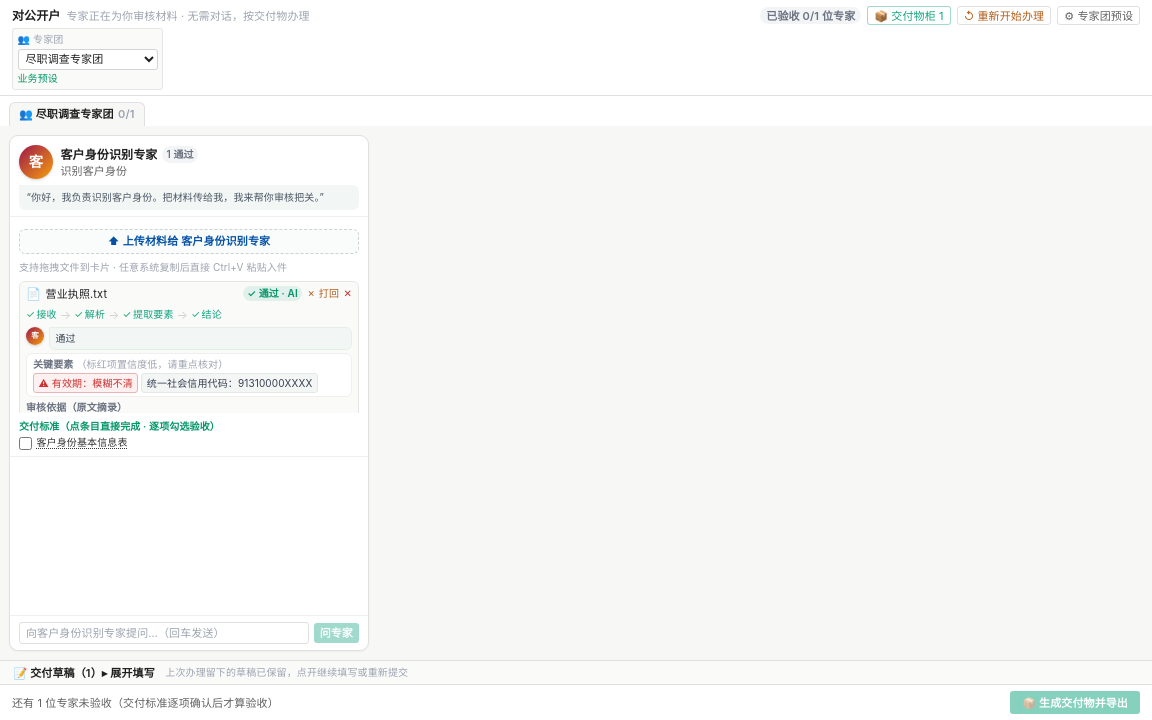
Test case: 草稿区默认收起（BUGFIX #134） › 启动恢复的历史草稿默认收起为提醒栏，表单不自动出现
Expected: the text "提交给专家审核" is not shown
Step 1. Click the button "📝 交付草稿（1）▸ 展开填写" → x=84, y=672, box [9,664,159,681]
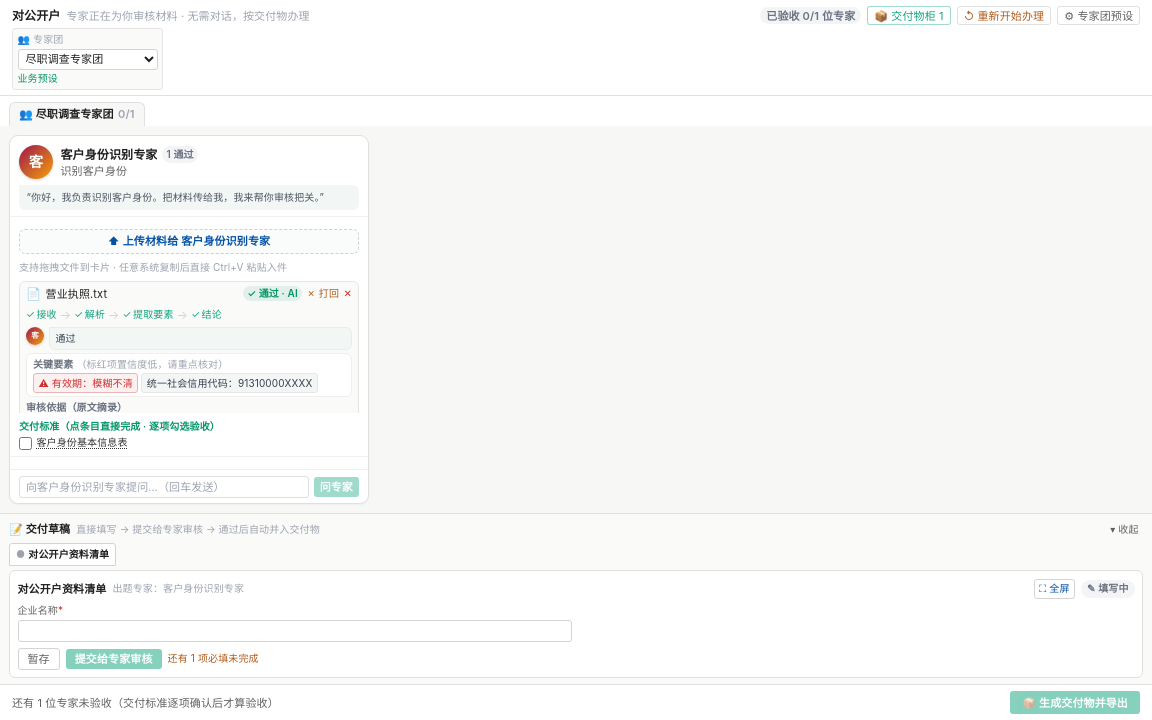
Expected: the button "提交给专家审核" is shown, [66,648,162,668]
Step 2. Click the button "▾ 收起" → x=1124, y=529, box [1106,520,1143,538]
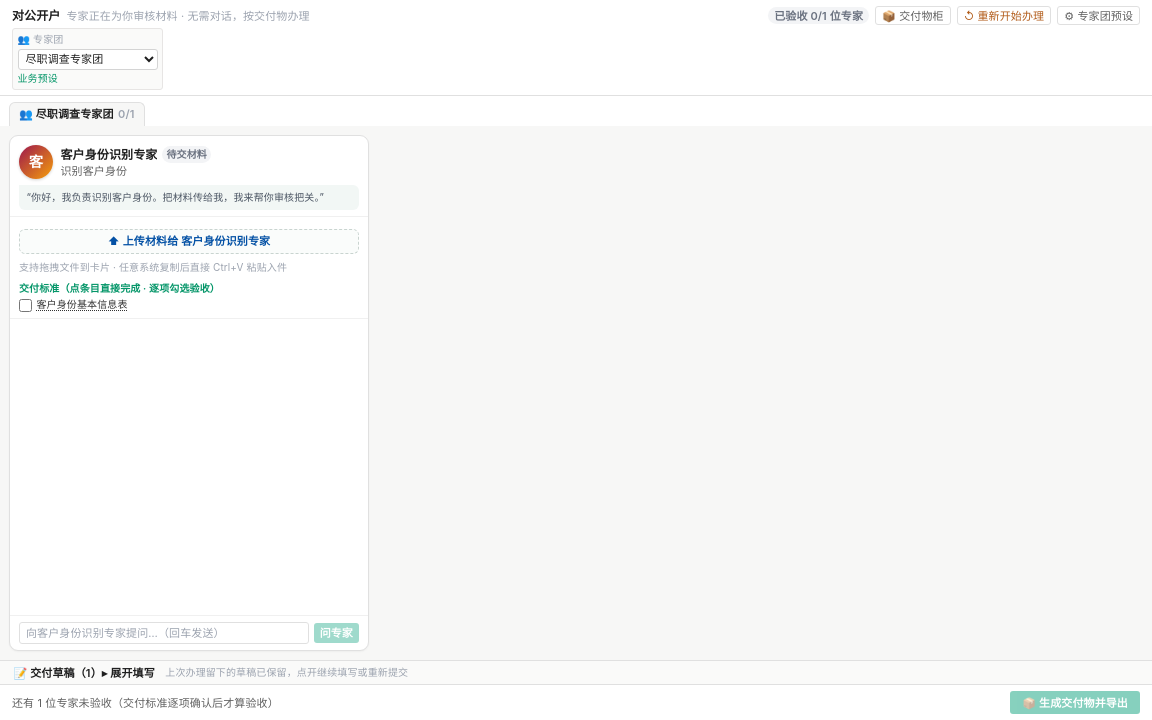
Expected: the text "提交给专家审核" is gone
